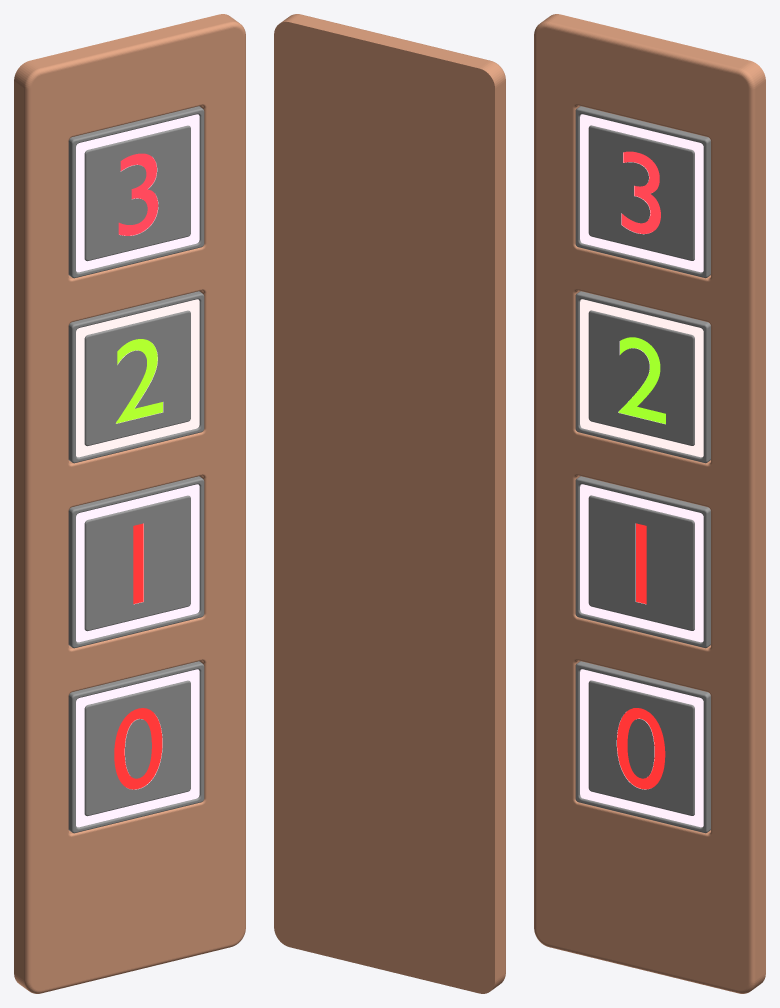
The picture shows the model from 3 angles, left to right: view 1: azimuth 30°, elevation 25°; view 2: azimuth 150°, elevation 25°; view 3: azimuth 330°, elevation 25°; orthographic projection.
Parts seen in each view (by area): view 1: PANEL 1; view 2: PANEL 1; view 3: PANEL 1.
Boxes of the visible parts, x1,y1,x2,y2 form: PANEL 1: [14, 14, 245, 993]; PANEL 1: [274, 14, 505, 993]; PANEL 1: [534, 14, 765, 993].
Bounding box in the file's own units: 5 × 20 × 0.5551.
